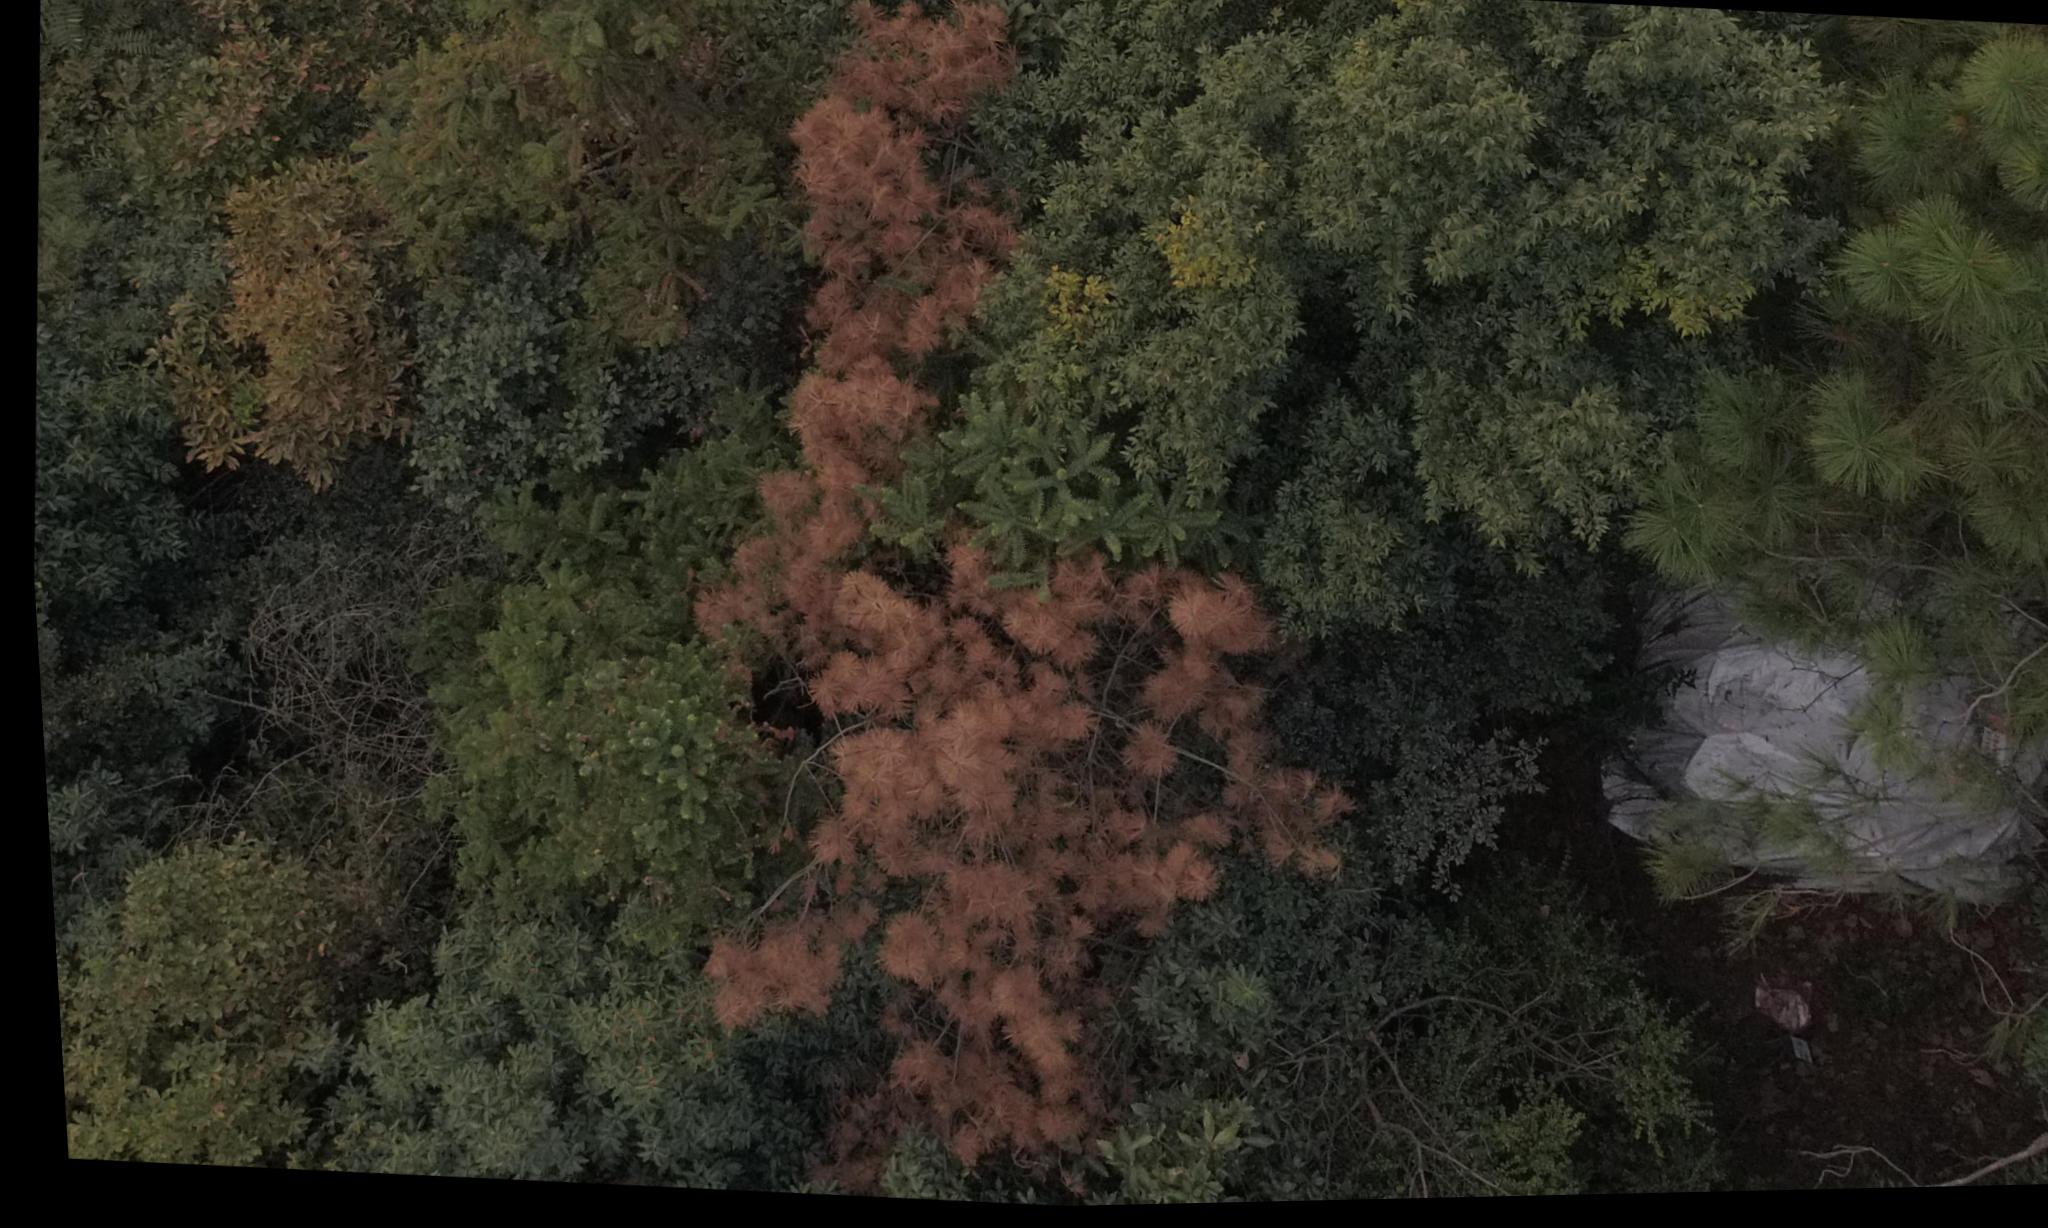heavy: (634, 0, 1409, 1189)
